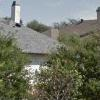Chimney: (6, 1, 24, 31)
